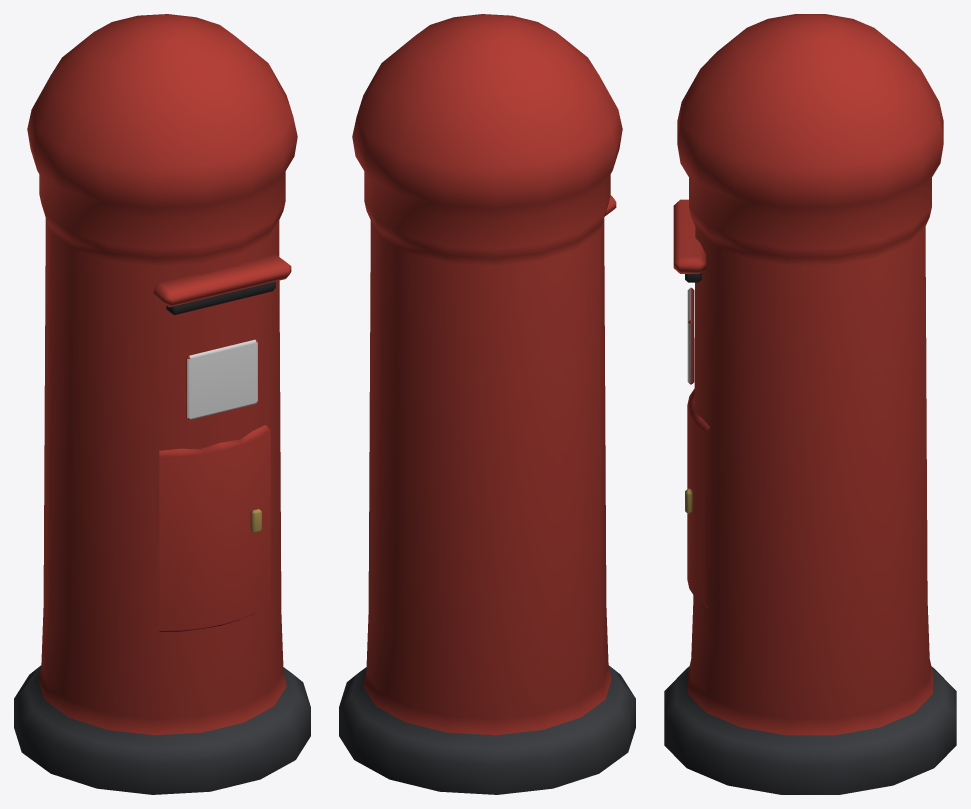
Rendered from PostBox.fbx.
The picture shows the model from 3 angles, left to right: view 1: azimuth 30°, elevation 25°; view 2: azimuth 150°, elevation 25°; view 3: azimuth 270°, elevation 25°; orthographic projection.
Parts seen in each view (by area): view 1: PostBox; view 2: PostBox; view 3: PostBox.
Boxes of the visible parts, x1,y1,x2,y2 form: PostBox: (14,14,310,794); PostBox: (339,14,635,794); PostBox: (664,14,956,794).
Size of the model in its own units: 0.5335 by 1.42 by 0.5335.
